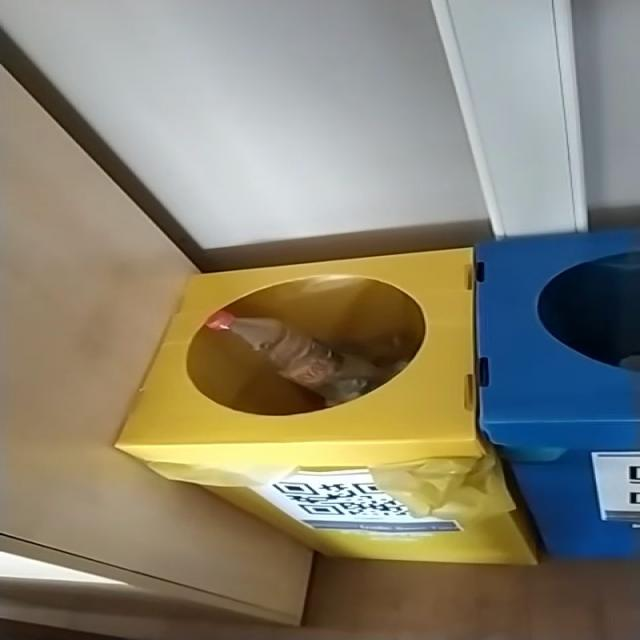plastic: (205, 311, 408, 407)
